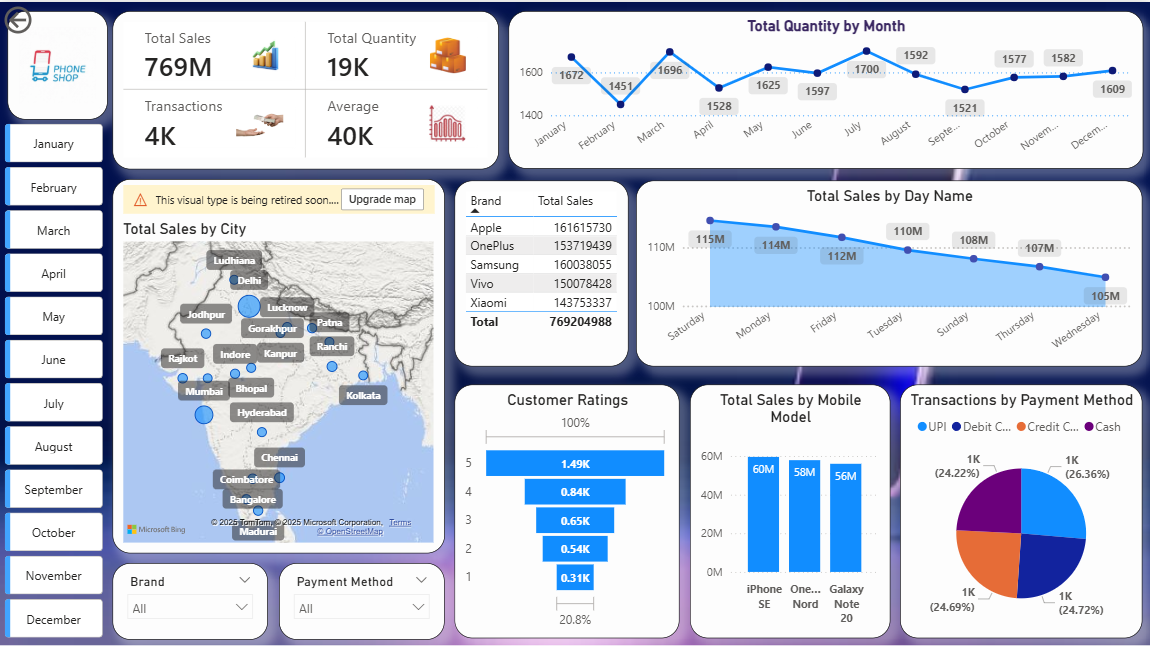

The dashboard page shown, as its layout file describes it:
{"tool":"powerbi","page":{"name":"Page 1","canvas":[1280,720],"ordinal":0},"visuals":[{"type":"shape","box":[8.1,9.7,111.3,121],"z":0},{"type":"image","box":[11.3,29,104.8,85.5],"z":1000},{"type":"advancedSlicerVisual","fields":{"Values":["Sheet1.Date.Variation.Date Hierarchy.Month"]},"box":[0,130.6,119.4,588.7],"z":2000},{"type":"cardVisual","fields":{"Data":["sales_data.Total Sales","sales_data.Total Quantity","sales_data.Transactions","sales_data.Average"]},"box":[124.2,9.7,429,175.8],"z":3000},{"type":"map","fields":{"Category":["sales_data.City"],"Size":["sales_data.Total Sales"]},"box":[124.2,196.8,369.4,416.1],"z":4000},{"type":"lineChart","fields":{"Category":["sales_data.Date.Variation.Date Hierarchy.Month","sales_data.Date.Variation.Date Hierarchy.Day"],"Y":["sales_data.Total Quantity"]},"box":[565,10,705,175],"z":5000},{"type":"clusteredColumnChart","fields":{"Category":["sales_data.Mobile Model"],"Y":["sales_data.Total Sales"]},"box":[766.1,425.8,222.6,282.3],"z":6000},{"type":"pieChart","fields":{"Y":["sales_data.Transactions"],"Category":["sales_data.Payment Method"]},"box":[1000,425.8,269.4,282.3],"z":7000},{"type":"tableEx","fields":{"Values":["sales_data.Brand","sales_data.Total Sales"]},"box":[504.8,198.4,193.5,206.5],"z":8000},{"type":"actionButton","box":[0,0,100,40],"z":9000},{"type":"funnel","title":"Customer Ratings","fields":{"Category":["sales_data.Customer Ratings"],"Y":["CountNonNull(sales_data.Customer Ratings)"]},"box":[504.8,425.8,250,282.3],"z":10000},{"type":"areaChart","fields":{"Y":["sales_data.Total Sales"],"Category":["sales_data.Day Name"]},"box":[706.5,198.4,562.9,206.5],"z":11000},{"type":"slicer","fields":{"Values":["sales_data.Brand"]},"box":[124.2,622.6,172.6,85.5],"z":12000},{"type":"slicer","fields":{"Values":["sales_data.Payment Method"]},"box":[309.7,622.6,183.9,85.5],"z":13000}]}

Visuals, with their boxes in screenshot pixels (x1, y1, x2, y2), scaled from the page's 1280x720 canvas onto the 1150x646 screenshot:
shape: x1=7, y1=9, x2=107, y2=117
image: x1=10, y1=26, x2=104, y2=103
advancedSlicerVisual - Sheet1.Date.Variation.Date Hierarchy.Month: x1=0, y1=117, x2=107, y2=645
cardVisual - sales_data.Total Sales x sales_data.Total Quantity: x1=112, y1=9, x2=497, y2=166
map - sales_data.City x sales_data.Total Sales: x1=112, y1=177, x2=443, y2=550
lineChart - sales_data.Date.Variation.Date Hierarchy.Month x sales_data.Date.Variation.Date Hierarchy.Day: x1=508, y1=9, x2=1141, y2=166
clusteredColumnChart - sales_data.Mobile Model x sales_data.Total Sales: x1=688, y1=382, x2=888, y2=635
pieChart - sales_data.Transactions x sales_data.Payment Method: x1=898, y1=382, x2=1140, y2=635
tableEx - sales_data.Brand x sales_data.Total Sales: x1=454, y1=178, x2=627, y2=363
actionButton: x1=0, y1=0, x2=90, y2=36
"Customer Ratings" funnel: x1=454, y1=382, x2=678, y2=635
areaChart - sales_data.Total Sales x sales_data.Day Name: x1=635, y1=178, x2=1140, y2=363
slicer - sales_data.Brand: x1=112, y1=559, x2=267, y2=635
slicer - sales_data.Payment Method: x1=278, y1=559, x2=443, y2=635
